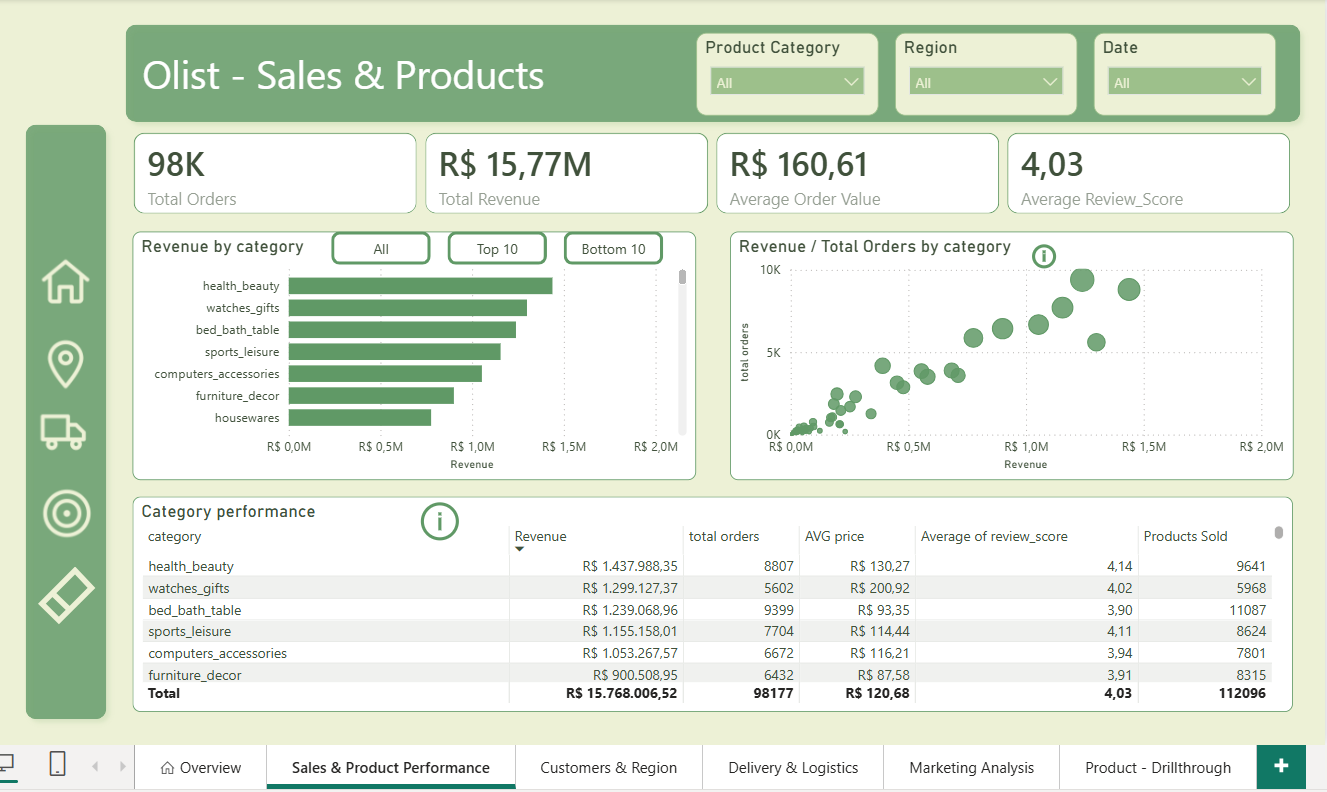

The dashboard page shown, as its layout file describes it:
{"tool":"powerbi","page":{"name":"Sales & Product Performance","canvas":[1280,720],"ordinal":1},"visuals":[{"type":"shape","box":[16,112.7,96,592],"z":0,"group":"g1"},{"type":"barChart","title":"Revenue by category","fields":{"Category":["olist_products4.product_category_name_english"],"Y":["MyMeasure.Revenue"]},"box":[128,224,544,240],"z":0},{"type":"shape","box":[112,16,1152,112],"z":1000},{"type":"slicer","title":"Product Category","fields":{"Values":["olist_products4.product_category_name_english"]},"box":[672,32,176,80],"z":2000},{"type":"slicer","title":"Region","fields":{"Values":["olist_customers2.customer region Hierarchy.customer region","olist_customers2.customer region Hierarchy.customer_city"]},"box":[864,32,176,80],"z":3000},{"type":"actionButton","box":[32,240.7,64,64],"z":3500,"group":"g1"},{"type":"group","id":"g1","title":"Group 1","box":[16,112.7,96,592],"z":4000},{"type":"actionButton","box":[32,320.7,64,64],"z":4000,"group":"g1"},{"type":"actionButton","box":[32,384.7,64,64],"z":4500,"group":"g1"},{"type":"cardVisual","fields":{"Data":["MyMeasure.Total Orders","MyMeasure.Revenue","MyMeasure.Average per Order","Avg(olist_orders1.review_score)"]},"box":[112,112,1152,112],"z":5000},{"type":"actionButton","box":[32,544,64,64],"z":6000},{"type":"slicer","title":"Date","fields":{"Values":["Calendar.Year Hierarchy.Year","Calendar.Year Hierarchy.Quarter","Calendar.Year Hierarchy.Month"]},"box":[1056,32,176,80],"z":7000},{"type":"scatterChart","title":"Revenue / Total Orders by category","fields":{"X":["MyMeasure.Revenue"],"Y":["MyMeasure.total orders"],"Size":["MyMeasure.Products Sold"],"Category":["olist_products4.product_category_name_english"]},"box":[704,224,544,240],"z":8000},{"type":"tableEx","title":"Category performance","fields":{"Values":["olist_products4.product_category_name_english","MyMeasure.Revenue","MyMeasure.total orders","Avg(olist_orders1.price)","Avg(olist_orders1.review_score)","MyMeasure.Total Per Order"]},"box":[128,480,1120,208],"z":9000},{"type":"actionButton","box":[432,224,96,32],"z":10000},{"type":"actionButton","box":[544,224,96,32],"z":11000},{"type":"actionButton","box":[320,224,96,32],"z":12000},{"type":"actionButton","box":[400,480,48,48],"z":13000},{"type":"actionButton","box":[992,224,32,48],"z":14000},{"type":"actionButton","box":[32,464,64,64],"z":15000}]}

Visuals, with their boxes on the page's 1280x720 design canvas (x1, y1, x2, y2). These are canvas units, not pixel positions in the 1327x792 screenshot, which may show the page scaled, cropped or inside an application window:
shape: (left=16, top=113, right=112, bottom=705)
"Revenue by category" barChart: (left=128, top=224, right=672, bottom=464)
shape: (left=112, top=16, right=1264, bottom=128)
"Product Category" slicer: (left=672, top=32, right=848, bottom=112)
"Region" slicer: (left=864, top=32, right=1040, bottom=112)
actionButton: (left=32, top=241, right=96, bottom=305)
"Group 1" group: (left=16, top=113, right=112, bottom=705)
actionButton: (left=32, top=321, right=96, bottom=385)
actionButton: (left=32, top=385, right=96, bottom=449)
cardVisual - MyMeasure.Total Orders x MyMeasure.Revenue: (left=112, top=112, right=1264, bottom=224)
actionButton: (left=32, top=544, right=96, bottom=608)
"Date" slicer: (left=1056, top=32, right=1232, bottom=112)
"Revenue / Total Orders by category" scatterChart: (left=704, top=224, right=1248, bottom=464)
"Category performance" tableEx: (left=128, top=480, right=1248, bottom=688)
actionButton: (left=432, top=224, right=528, bottom=256)
actionButton: (left=544, top=224, right=640, bottom=256)
actionButton: (left=320, top=224, right=416, bottom=256)
actionButton: (left=400, top=480, right=448, bottom=528)
actionButton: (left=992, top=224, right=1024, bottom=272)
actionButton: (left=32, top=464, right=96, bottom=528)
